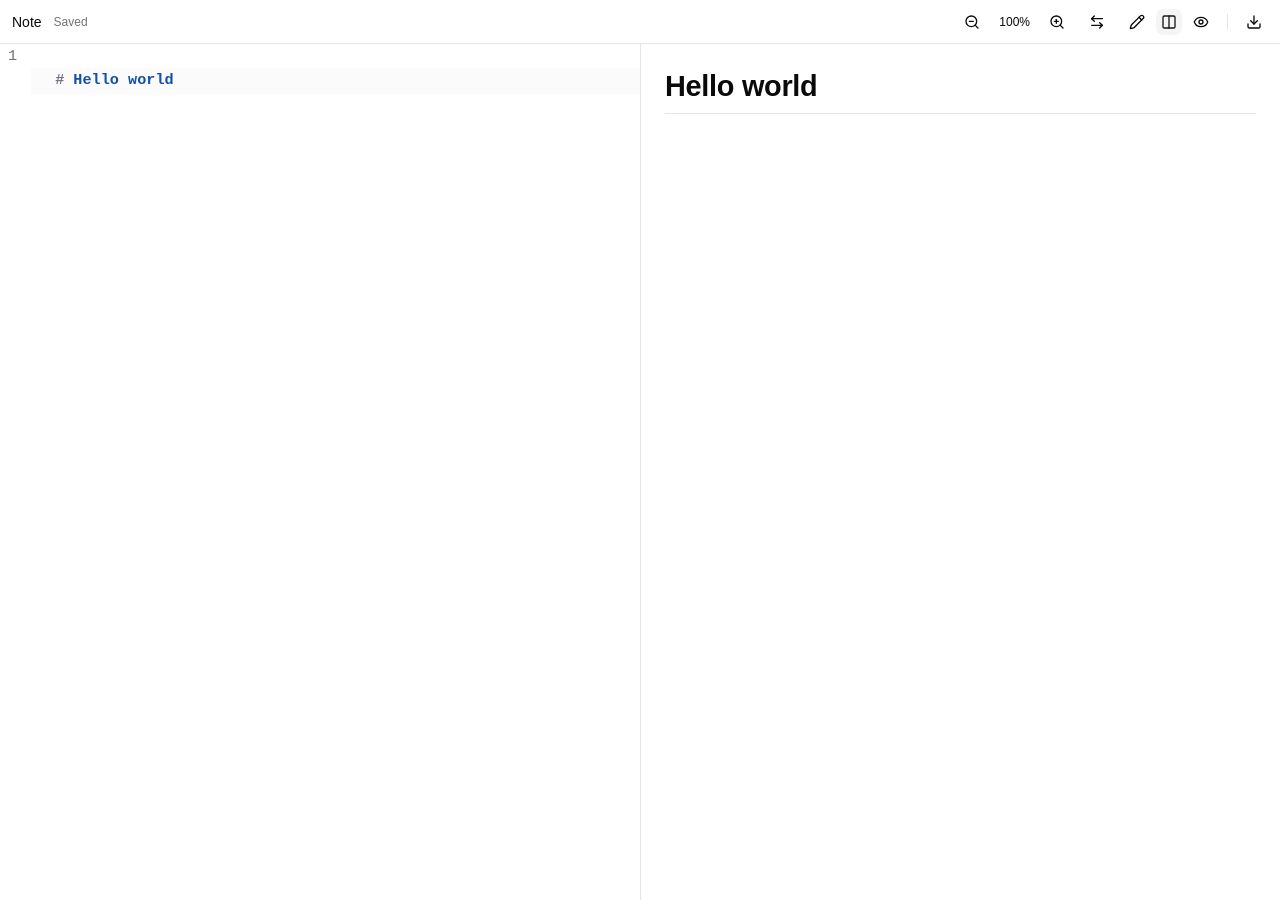
Test: NotesEditor note zoom › zooms in and out in 10% steps
Click the button named "Zoom in": (1057, 22) [1043, 8, 1071, 36]
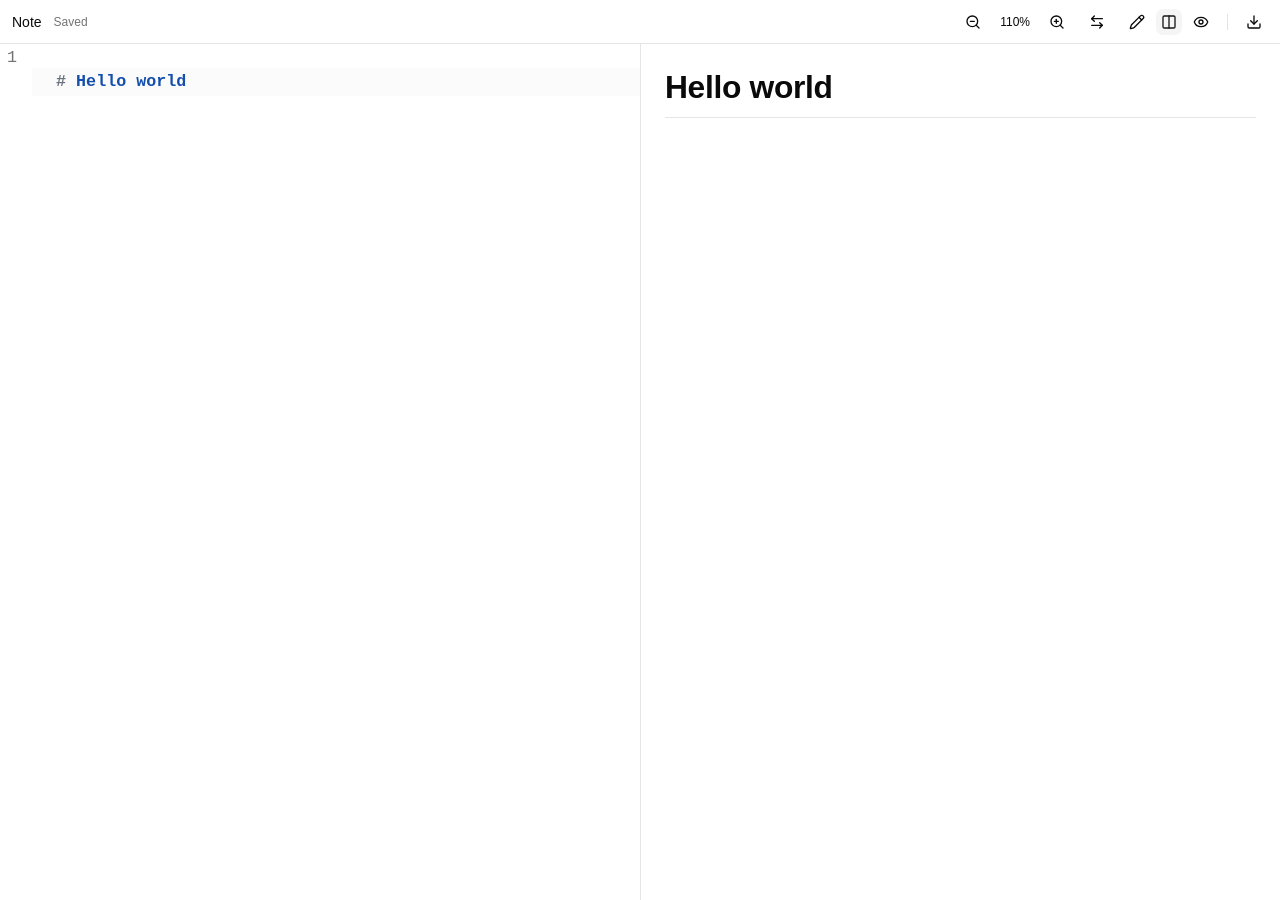
Result: the button "110%" is shown at [989, 8, 1041, 36]
Click the button named "Zoom out": (973, 22) [959, 8, 987, 36]
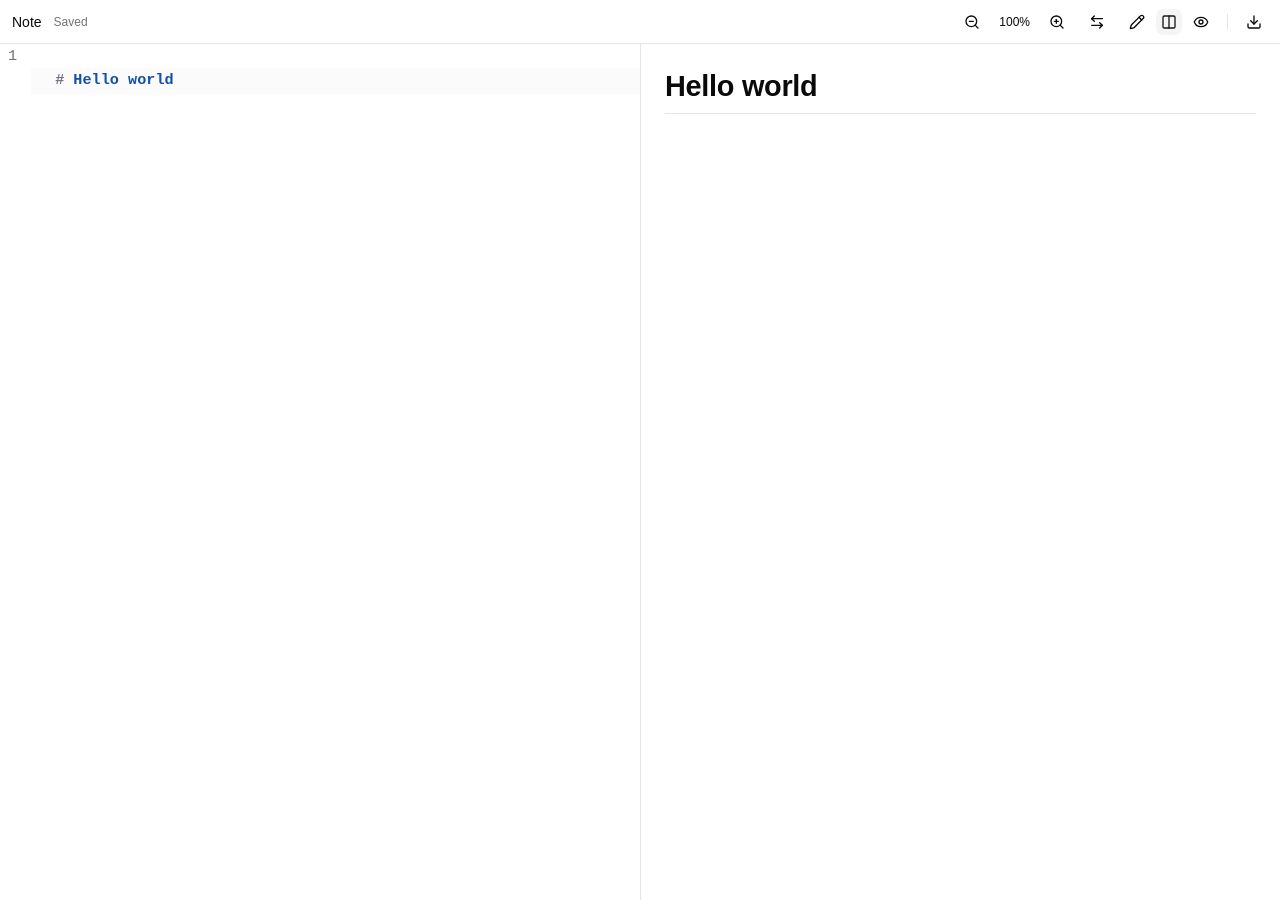
Click the button named "Zoom out": (972, 22) [958, 8, 986, 36]
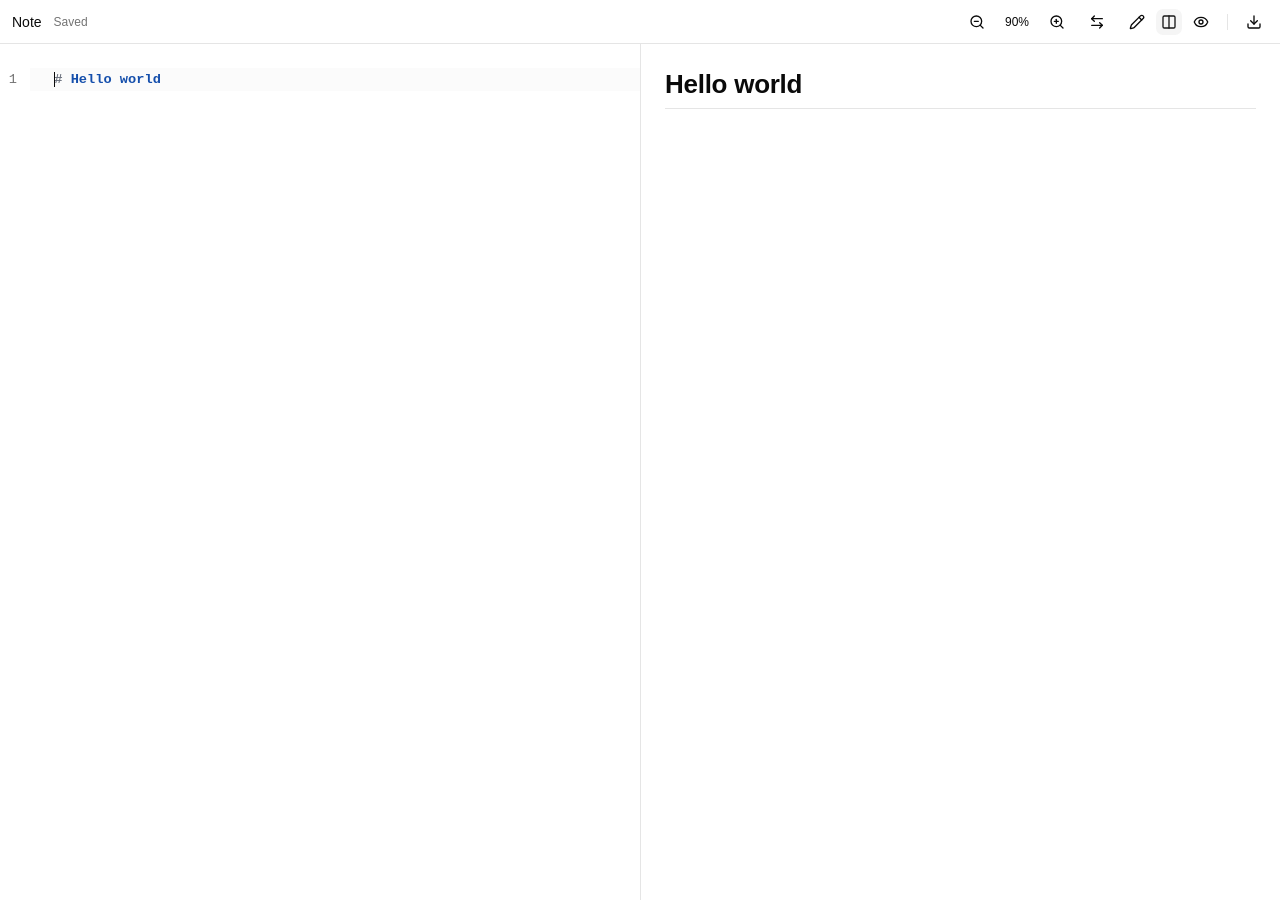
Result: the button "90%" is shown at [993, 8, 1041, 36]
